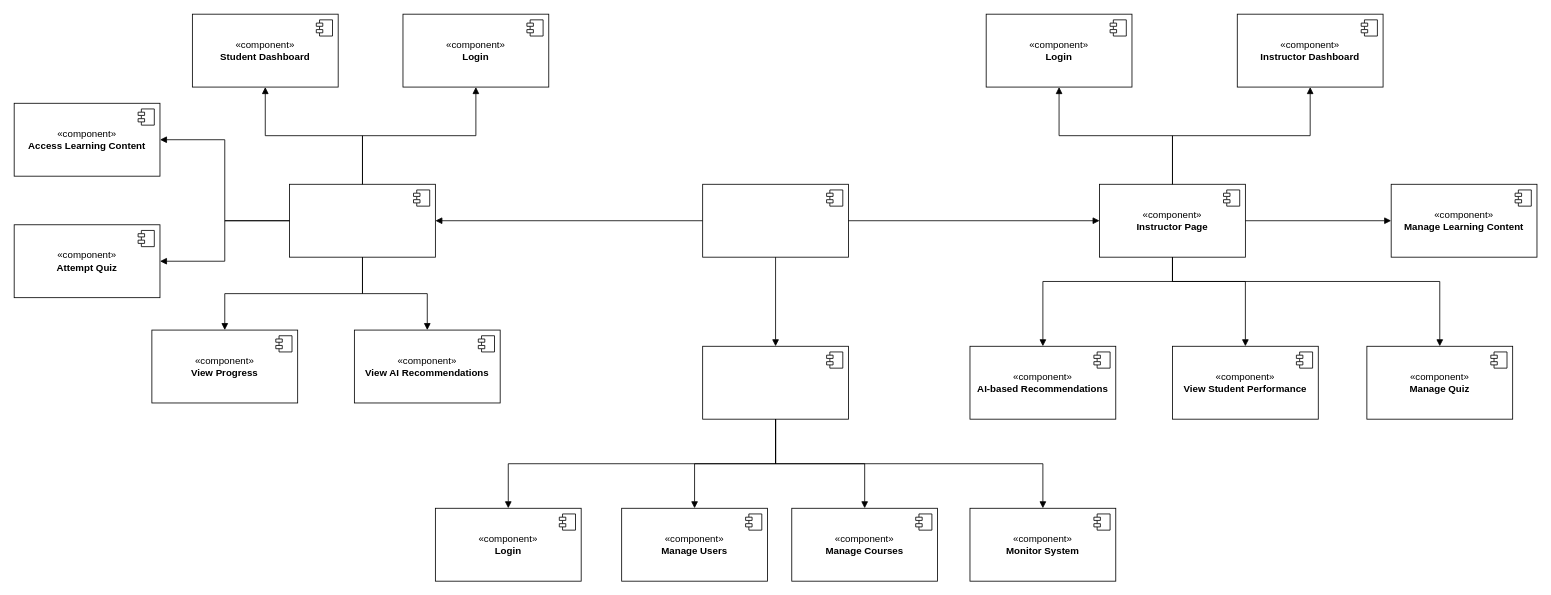
The diagram is 1551 pixels wide and 595 high, and some of its shapes have lost their labels. The box of each missing label's shape, as (x1, y1, x2, y2) in pixels:
«component» Admin Page: (702, 345, 848, 419)
«component» Learnify System: (702, 183, 848, 257)
«component» Student Page: (289, 183, 435, 257)
